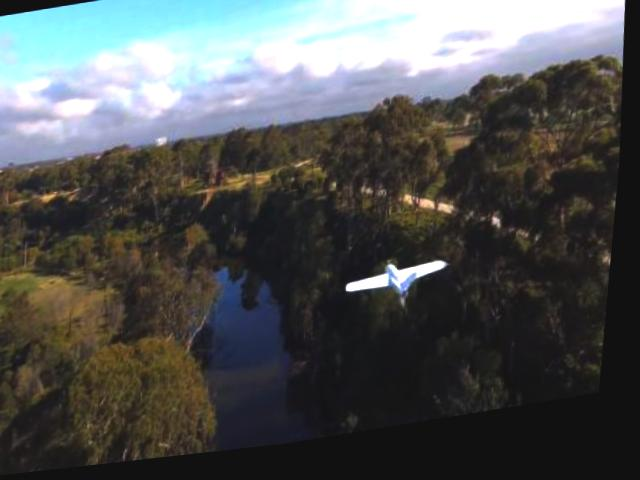uav: (346, 261, 457, 330)
